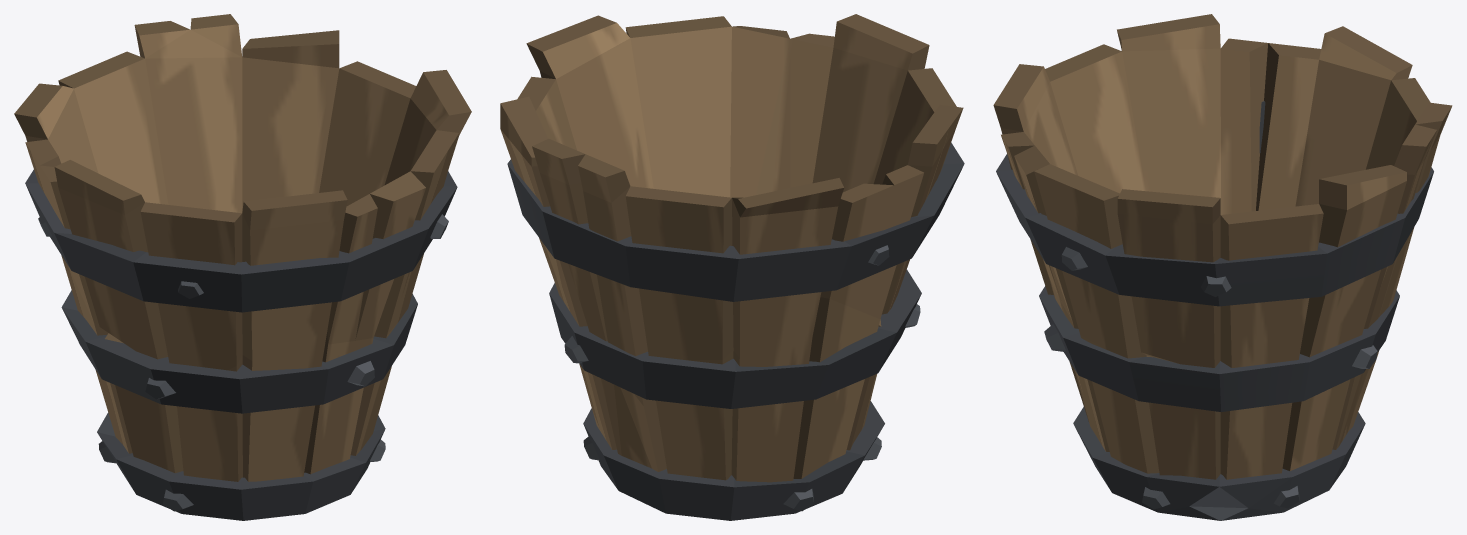
Rendered from SM_Prop_Bucket_02.fbx.
3 views of the same model, side by side, from view 1: azimuth 30°, elevation 25°; view 2: azimuth 150°, elevation 25°; view 3: azimuth 270°, elevation 25° (orthographic). The views are drawn at different scales.
Parts seen in each view (by area): view 1: SM_Prop_Bucket_02; view 2: SM_Prop_Bucket_02; view 3: SM_Prop_Bucket_02.
Part boxes in pixels (bbox=[...]): SM_Prop_Bucket_02: bbox=[14, 14, 471, 520]; SM_Prop_Bucket_02: bbox=[500, 14, 964, 520]; SM_Prop_Bucket_02: bbox=[993, 14, 1452, 520].
Bounding box in the file's own units: 62.9 × 54.94 × 62.83.
